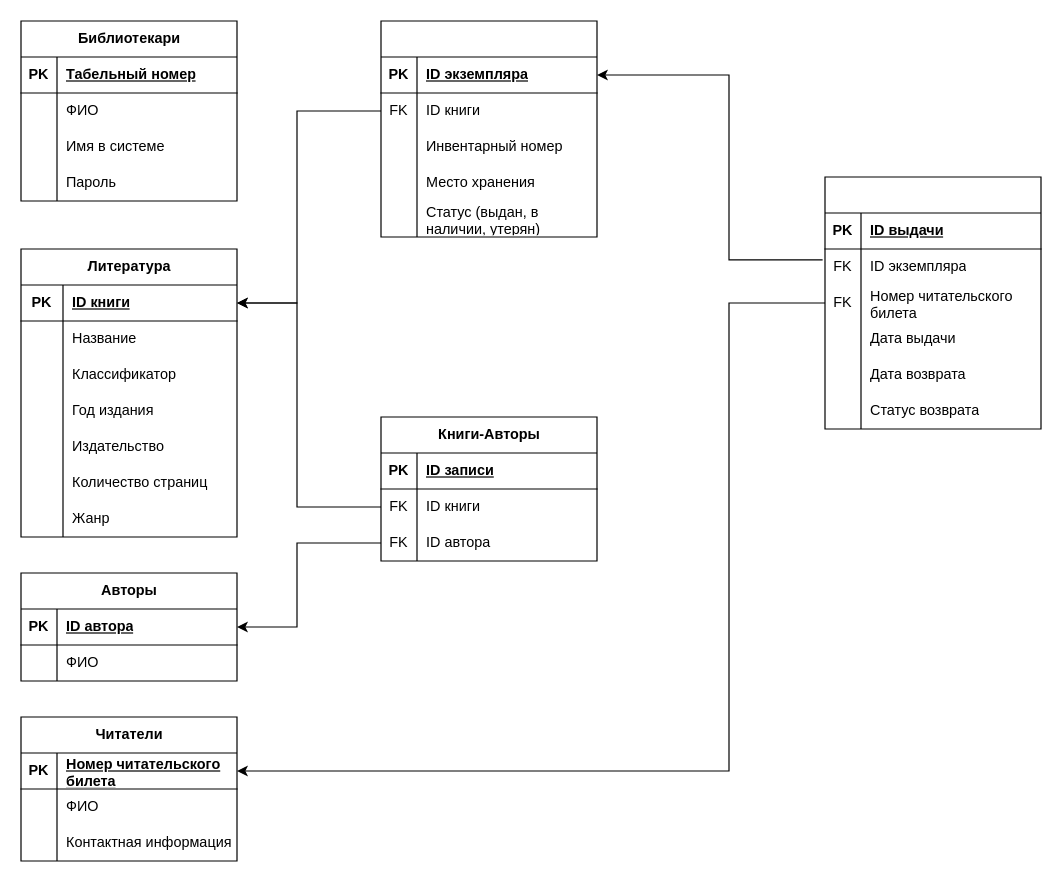
Image size: 1062x882. Some labels were removed from this diagram. The shapes that lost their labels are listed below. From the top down, each one's box as (x1, y1, x2, y2) in pixels, then its label:
(380, 20, 597, 237): Экземпляры
(824, 176, 1041, 429): Выдача книг
